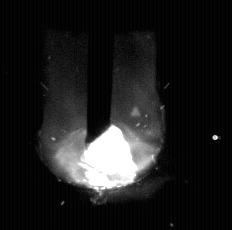arame: (87, 0, 112, 148)
poca: (39, 0, 164, 230)
